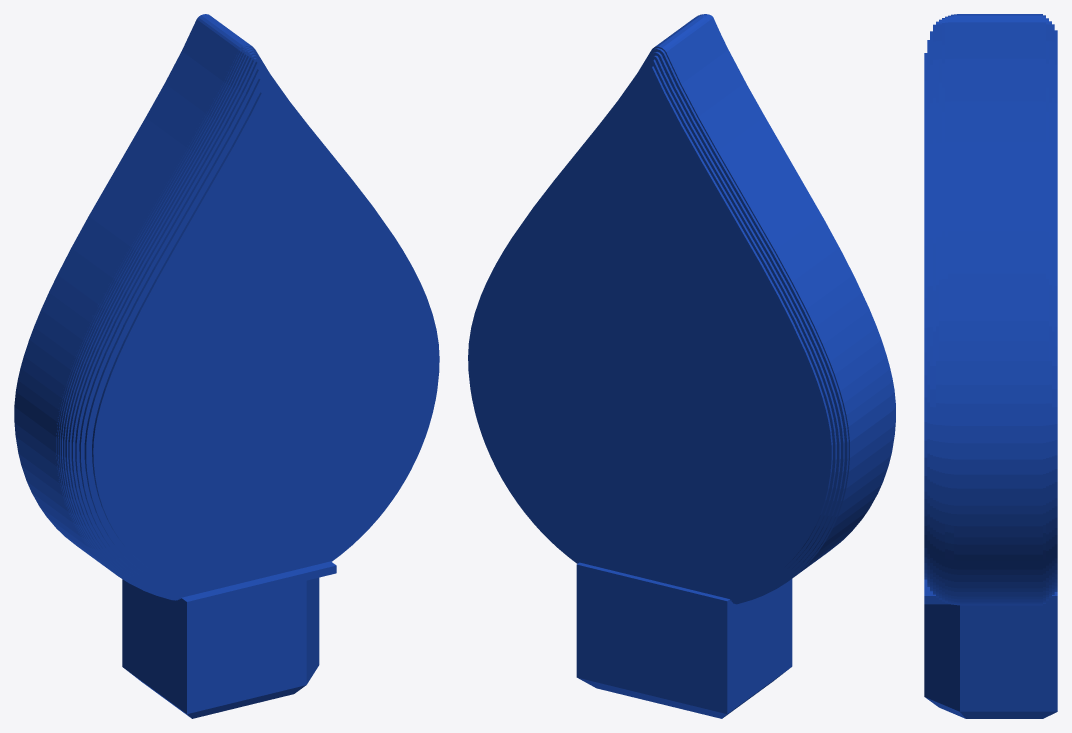
File: glyph-water@water.glb
The picture shows the model from 3 angles, left to right: view 1: azimuth 30°, elevation 25°; view 2: azimuth 150°, elevation 25°; view 3: azimuth 270°, elevation 25°; orthographic projection. The views are drawn at different scales.
Visible parts, largest first — view 1: geometry_0; view 2: geometry_0; view 3: geometry_0.
Boxes of the visible parts, x1=… form: geometry_0: x1=14, y1=14, x2=439, y2=718; geometry_0: x1=468, y1=14, x2=895, y2=718; geometry_0: x1=924, y1=14, x2=1057, y2=718.
Size of the model in its own units: 15.21 by 25.01 by 4.5.
